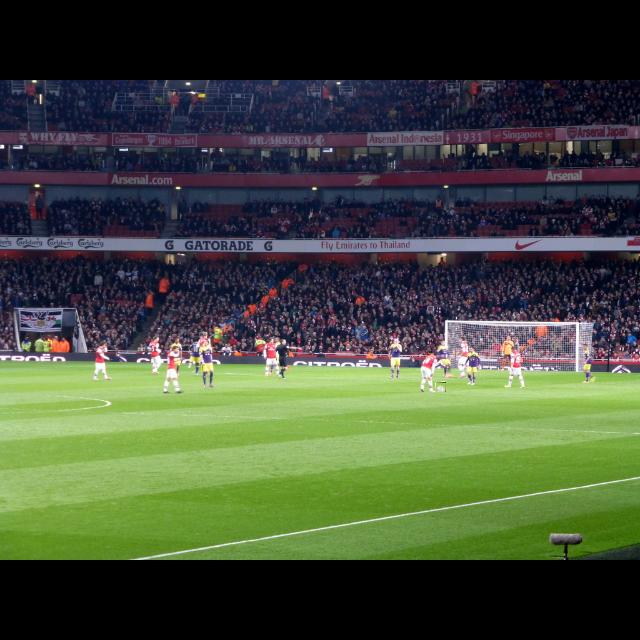Football: (436, 382, 446, 392)
